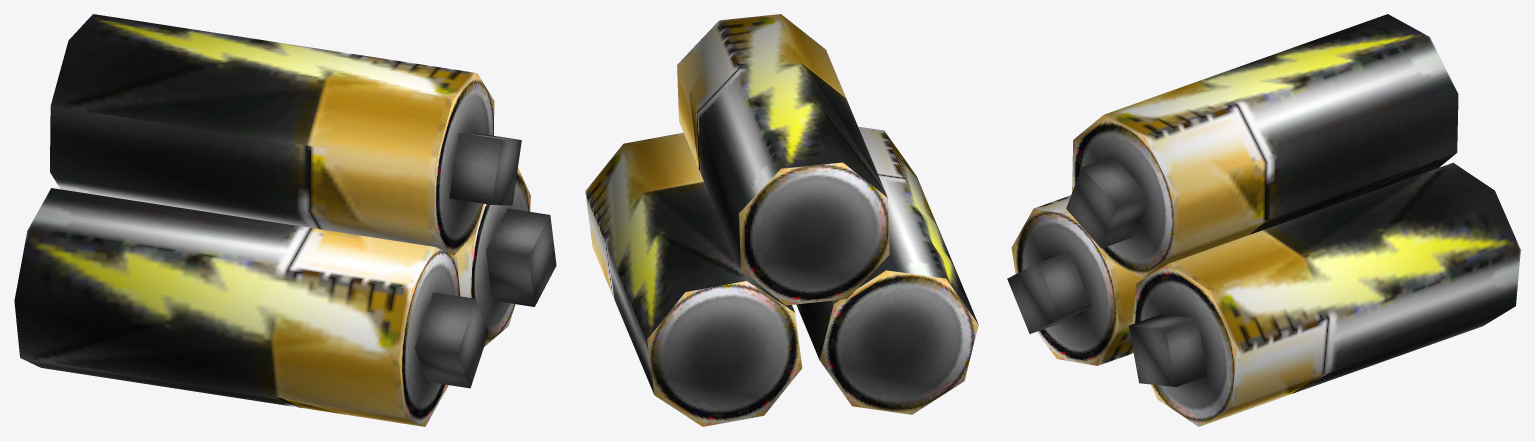
The picture shows the model from 3 angles, left to right: view 1: azimuth 30°, elevation 25°; view 2: azimuth 150°, elevation 25°; view 3: azimuth 270°, elevation 25°; orthographic projection. The views are drawn at different scales.
Parts seen in each view (by area): view 1: battery_pack.gr2; view 2: battery_pack.gr2; view 3: battery_pack.gr2.
Boxes of the visible parts, x1=… form: battery_pack.gr2: x1=14, y1=14, x2=556, y2=426; battery_pack.gr2: x1=585, y1=14, x2=978, y2=426; battery_pack.gr2: x1=1007, y1=14, x2=1520, y2=426.
Size of the model in its own units: 0.6928 by 0.4041 by 0.7023.
